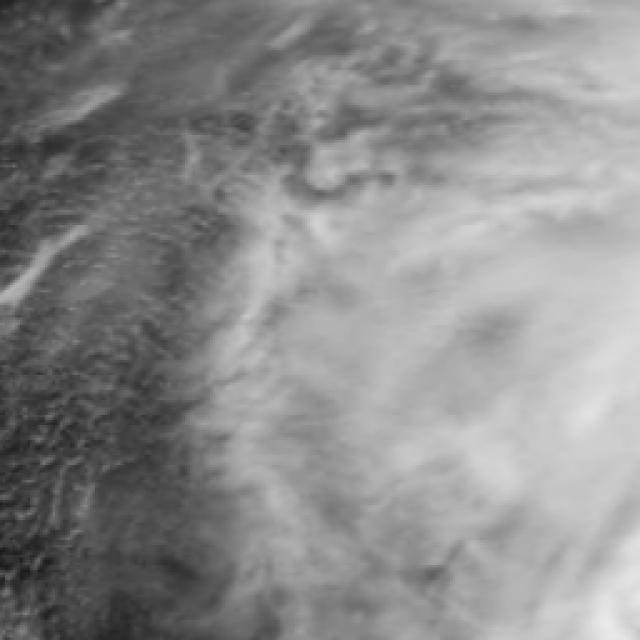CB: (412, 171, 638, 608)
